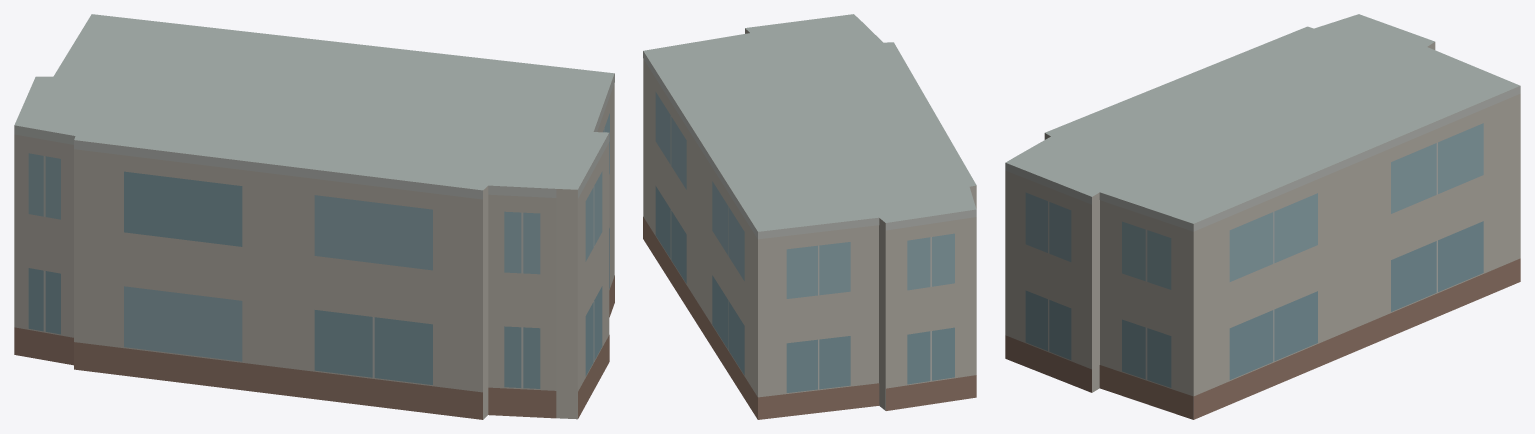
The model's file is survey-upis-32527989.glb.
The picture shows the model from 3 angles, left to right: view 1: azimuth 30°, elevation 25°; view 2: azimuth 150°, elevation 25°; view 3: azimuth 270°, elevation 25°; orthographic projection. The views are drawn at different scales.
Visible parts, largest first — view 1: survey-upis-32527989.tmp; view 2: survey-upis-32527989.tmp; view 3: survey-upis-32527989.tmp.
Part boxes in pixels (x1=…): survey-upis-32527989.tmp: x1=14, y1=14, x2=614, y2=419; survey-upis-32527989.tmp: x1=643, y1=14, x2=976, y2=419; survey-upis-32527989.tmp: x1=1005, y1=14, x2=1520, y2=419.
Bounding box in the file's own units: 14.02 × 6.1 × 14.54.
